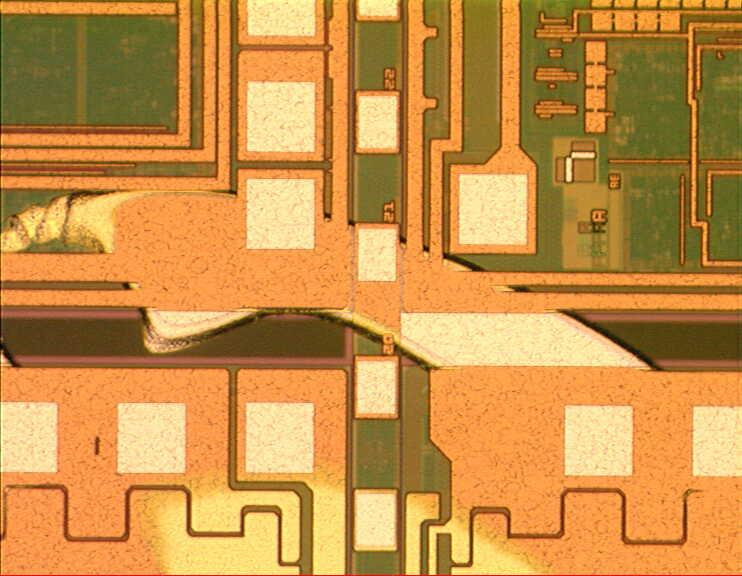BLOCK ETCH: (1, 182, 742, 576)
